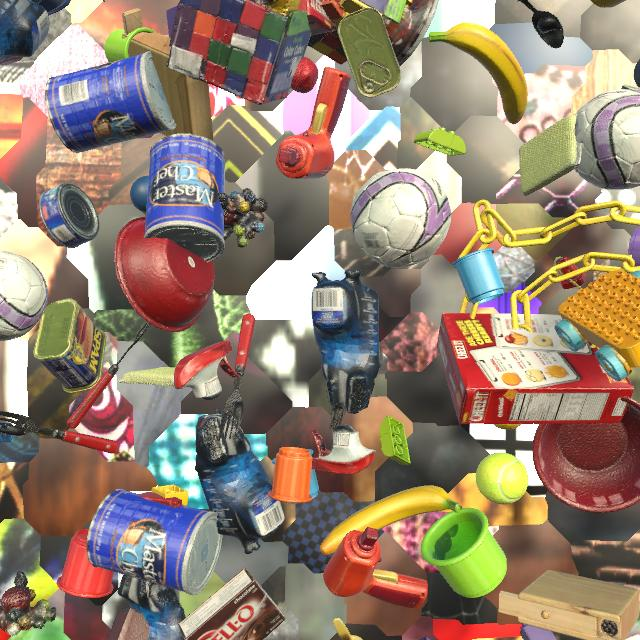ycb_002_master_chef_can: (86, 489, 222, 595), (45, 51, 176, 153), (144, 133, 226, 262)
ycb_003_cracker_box: (437, 313, 634, 424), (297, 0, 332, 36)
ycb_005_tomato_soup_can: (621, 85, 640, 90)
ycb_007_tuna_fish_can: (39, 183, 99, 248)
ycb_008_pudding_box: (178, 567, 286, 640)
ycb_010_potted_meat_can: (33, 298, 106, 393), (338, 7, 401, 97)
ycb_011_banana: (429, 23, 528, 124), (320, 485, 462, 555)
ycb_012_strawberry: (291, 57, 319, 93)
ycb_014_lemon: (493, 424, 522, 430)
